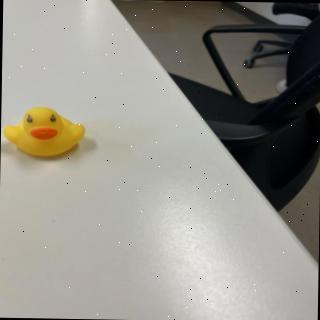duck_regular: (3, 106, 88, 159)
